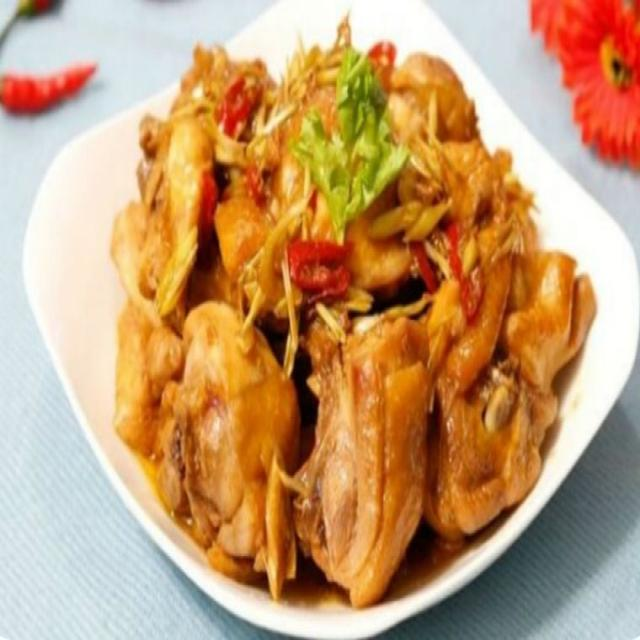ga kho: (110, 23, 595, 604)
